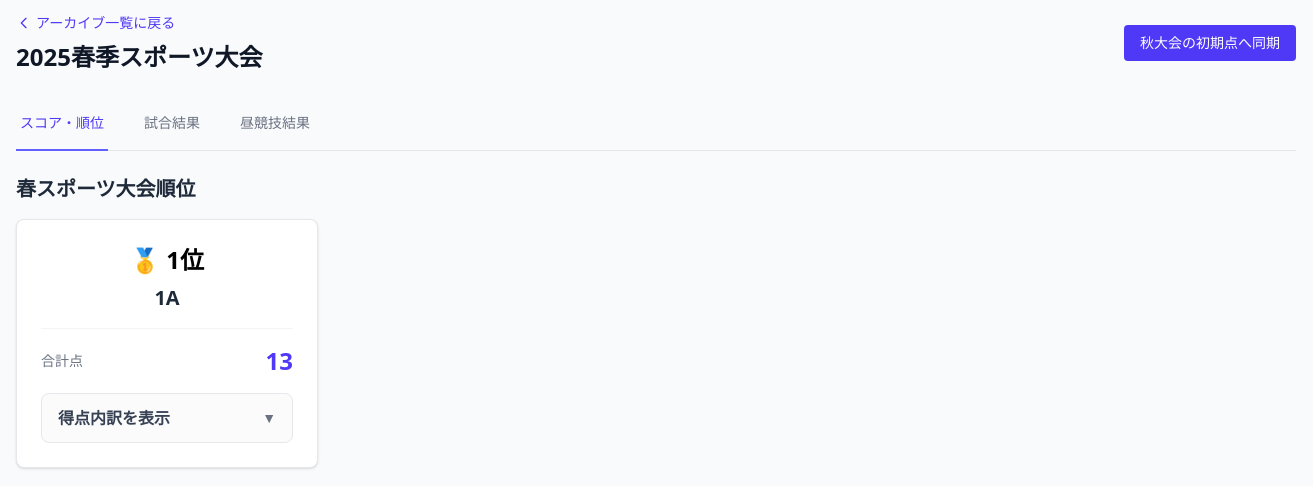
Archive Event Detail Page › トーナメントAPIが配列を返したときアーカイブで試合一覧を表示できること
Step 1. Click the button "試合結果" → (172, 124), box [140,97,204,151]
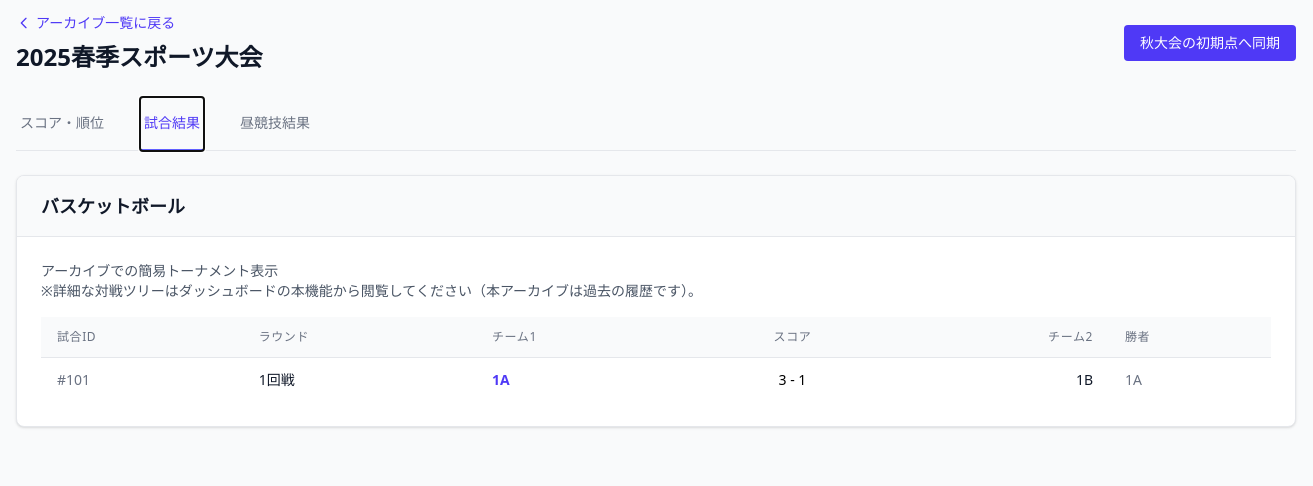
Now the heading "バスケットボール" is shown, box [41,194,185,218]
Now the text "#101" is shown, box [41,358,243,402]
Now the 1st cell "1A" is shown, box [476,358,694,402]
